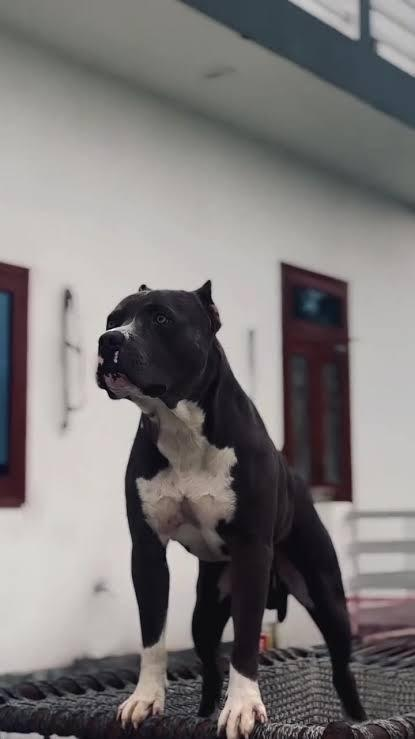adult_dog: (96, 279, 370, 739)
